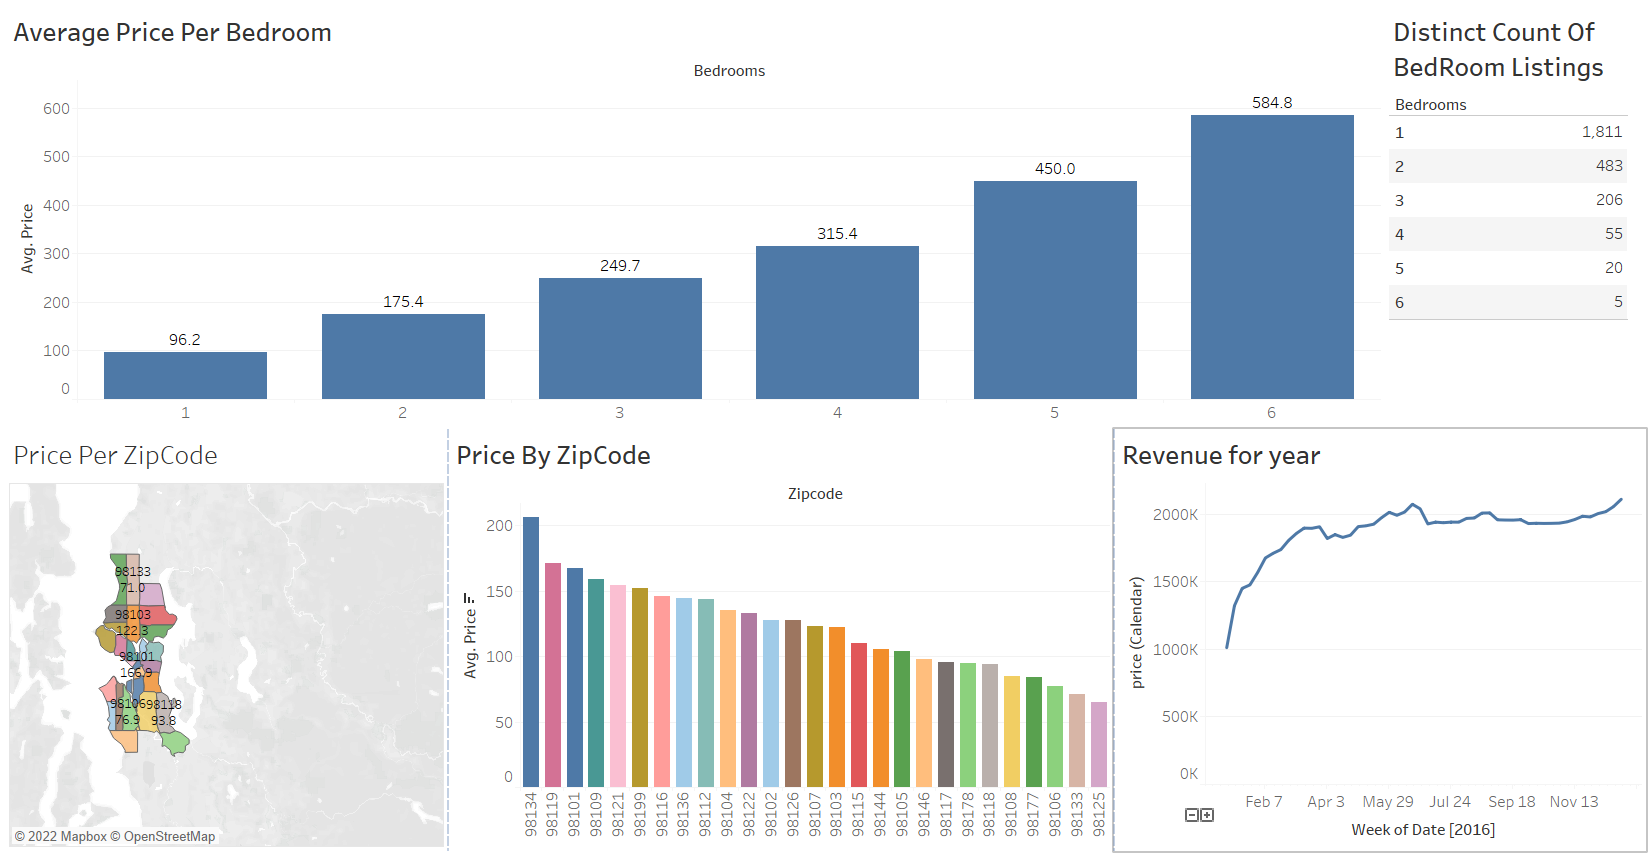

What the dashboard file says about the page in this screenshot:
{"tool":"tableau","page":{"name":"Dashboard 1","canvas":[1000,1000],"units":"permille","ordinal":0},"visuals":[{"type":"worksheet","title":"Average Price Per Bedroom","mark":"Automatic","rows":["price"],"cols":["bedrooms"],"box":[4.8,9.3,832.8,490.7]},{"type":"worksheet","title":"Distinct Count of Bedroom listngs","mark":"Automatic","rows":["bedrooms"],"box":[837.7,9.3,157.5,490.7]},{"type":"worksheet","title":"Price Per ZipCode","mark":"Multipolygon","box":[4.8,500,267.4,490.7]},{"type":"worksheet","title":"Price By ZipCode","mark":"Automatic","rows":["price"],"cols":["zipcode"],"box":[272.2,500,401.9,490.7]},{"type":"worksheet","title":"Revenue Per Year","mark":"Automatic","rows":["price (Calendar)"],"cols":["date"],"box":[674.1,500,321.1,490.7]}]}

Visuals, with their boxes on the dashboard's canvas, which has no fixed pixel size, in thousandths of its width and height (x1, y1, x2, y2). These are canvas units, not pixel positions in the 1650x855 screenshot, which may show the page scaled, cropped or inside an application window:
"Average Price Per Bedroom" worksheet: 5, 9, 838, 500
"Distinct Count of Bedroom listngs" worksheet: 838, 9, 995, 500
"Price Per ZipCode" worksheet (Multipolygon marks): 5, 500, 272, 991
"Price By ZipCode" worksheet: 272, 500, 674, 991
"Revenue Per Year" worksheet: 674, 500, 995, 991
